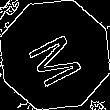M_NE: (22, 23, 88, 87)
